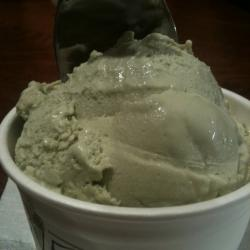icecream: (17, 36, 240, 225)
